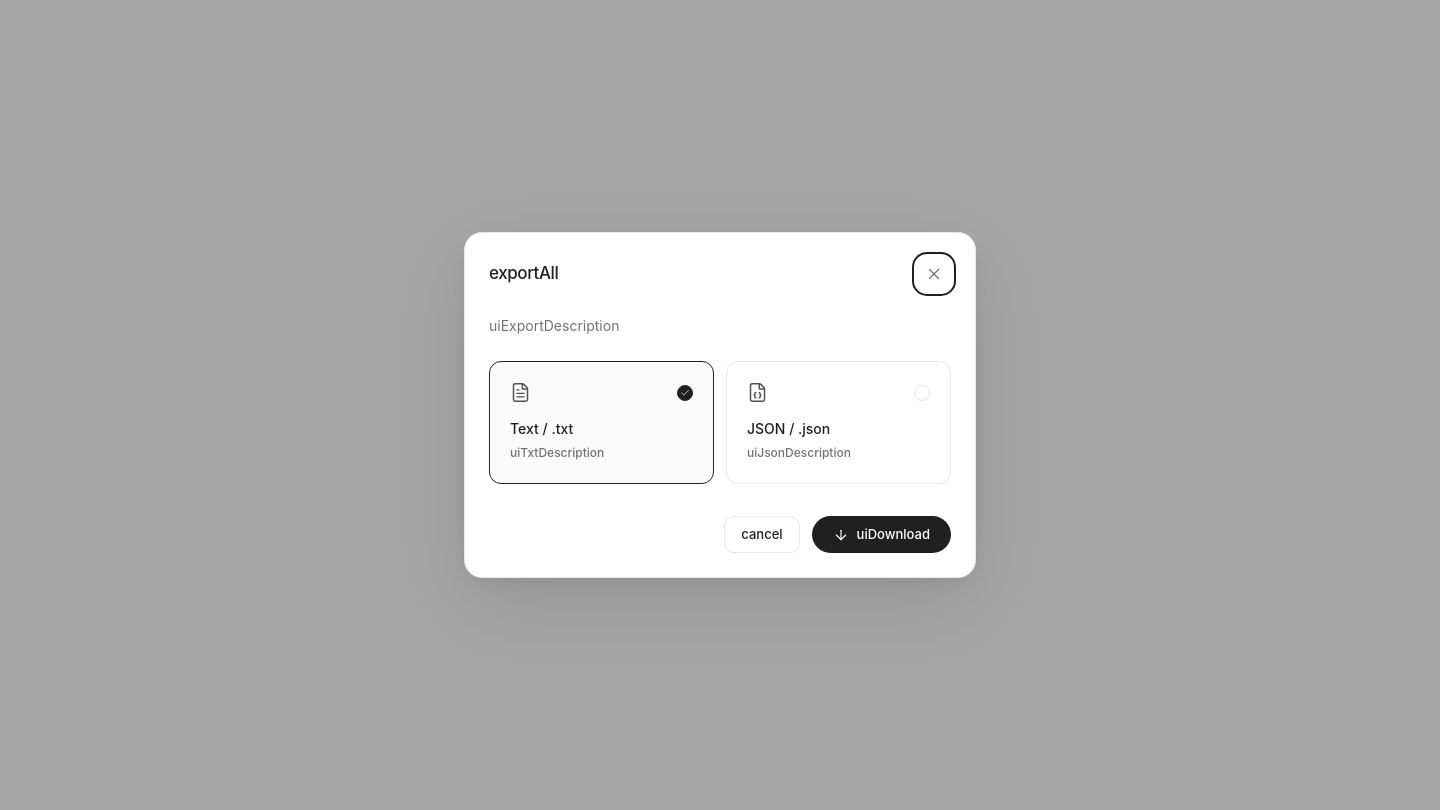
Scenario: shared interface system › shows export errors inside the dialog
Click the button "uiDownload": (881,535) [812, 516, 951, 553]
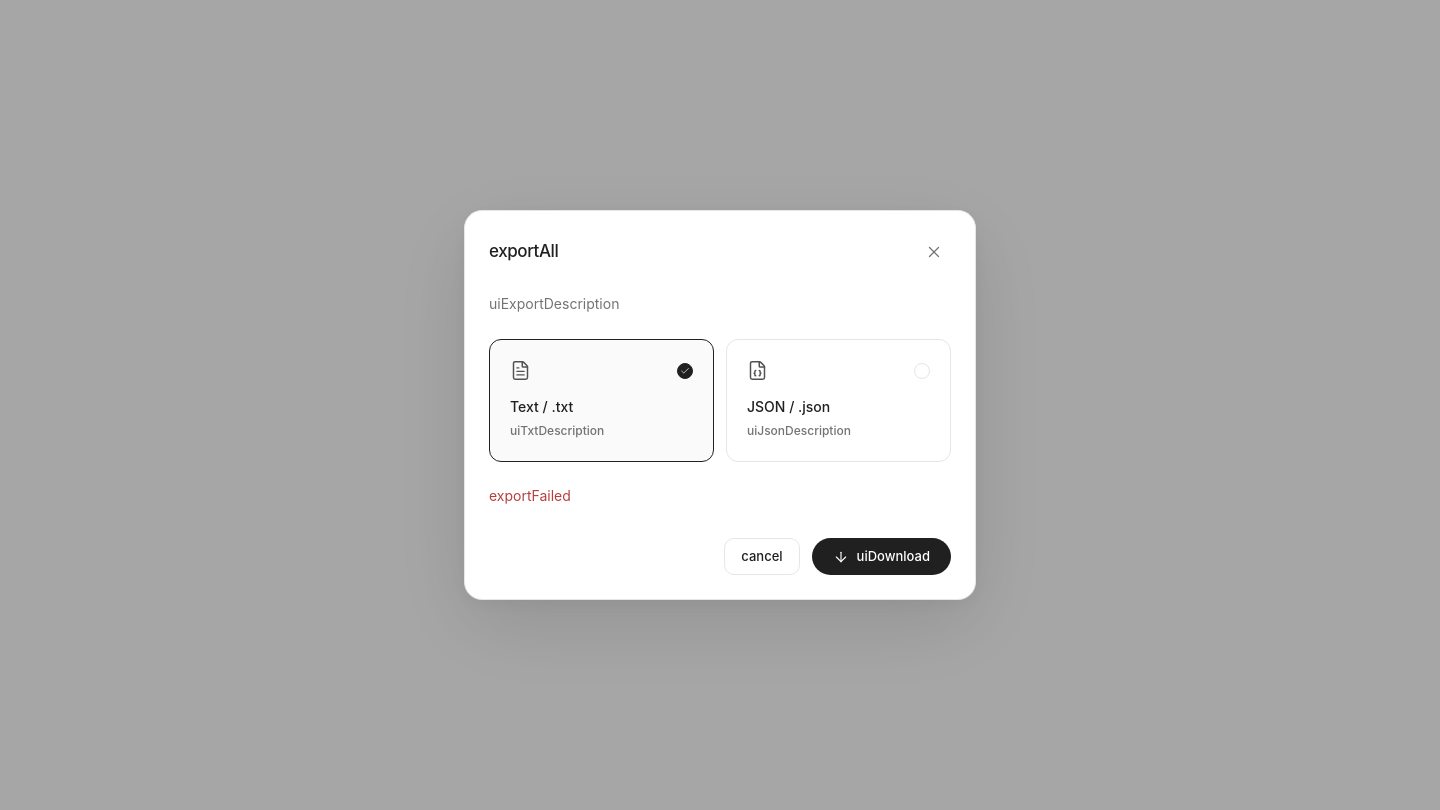
Expected: the message reads "exportFailed", [489, 487, 571, 504]
